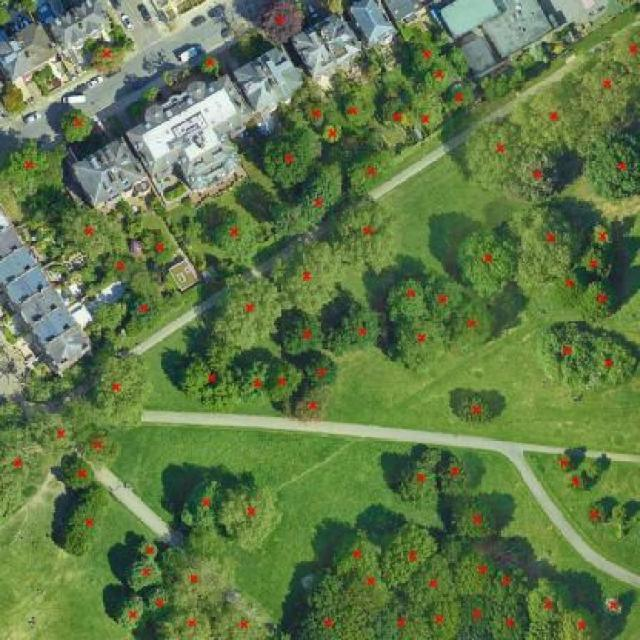tree: (506, 187, 589, 296), (87, 328, 158, 444), (206, 266, 286, 359), (572, 51, 639, 155), (326, 194, 411, 275), (510, 72, 588, 160), (265, 231, 344, 317), (270, 153, 348, 232), (46, 479, 117, 562), (253, 115, 324, 196), (454, 222, 526, 301), (286, 567, 363, 640), (382, 513, 446, 596), (0, 423, 52, 525), (456, 111, 521, 191), (218, 480, 285, 557), (0, 131, 69, 204), (54, 198, 131, 262), (382, 305, 445, 383), (167, 545, 245, 607), (574, 323, 640, 395), (581, 127, 640, 204), (501, 139, 565, 208), (200, 200, 266, 265), (443, 296, 515, 352), (538, 305, 582, 393), (179, 348, 238, 412), (320, 298, 389, 352), (367, 592, 441, 640), (388, 442, 440, 508), (176, 465, 222, 539), (447, 383, 510, 434), (325, 520, 381, 577), (351, 560, 397, 628), (442, 492, 507, 540), (347, 139, 399, 198), (211, 595, 278, 640), (422, 575, 468, 640), (81, 30, 135, 85), (113, 283, 165, 339), (526, 569, 583, 620), (338, 76, 384, 139), (446, 537, 492, 598), (434, 440, 474, 506), (229, 347, 272, 408), (385, 258, 423, 327), (429, 269, 475, 326), (136, 225, 187, 276), (28, 406, 79, 457), (55, 99, 103, 153), (281, 385, 336, 432), (254, 0, 306, 48), (490, 583, 533, 640), (283, 309, 329, 362), (571, 234, 622, 281), (79, 425, 130, 472), (585, 268, 623, 328), (159, 601, 215, 640), (603, 21, 640, 79), (407, 84, 445, 138), (455, 581, 489, 640), (90, 249, 148, 283), (554, 603, 606, 640), (407, 33, 447, 81), (268, 348, 304, 401), (122, 555, 166, 596), (423, 52, 463, 97), (293, 90, 336, 128), (300, 350, 343, 388), (493, 553, 533, 593), (444, 73, 481, 116), (552, 265, 588, 308), (58, 454, 102, 489), (85, 302, 127, 338), (108, 592, 143, 635), (380, 94, 412, 141), (141, 578, 174, 622), (584, 210, 621, 248), (600, 583, 629, 625), (0, 78, 29, 118), (125, 527, 161, 559), (194, 50, 225, 85), (324, 116, 355, 150), (582, 499, 609, 533), (552, 446, 578, 480), (607, 499, 636, 528), (565, 473, 589, 493)
